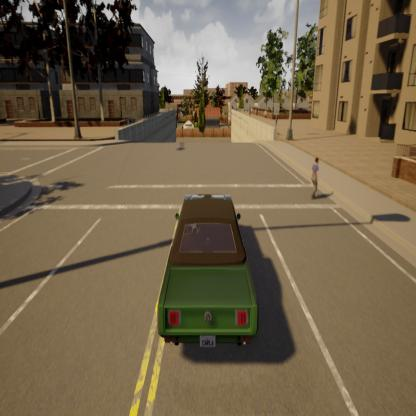Cars: (153, 174, 260, 378)
Pedestrian: (304, 144, 326, 216)
